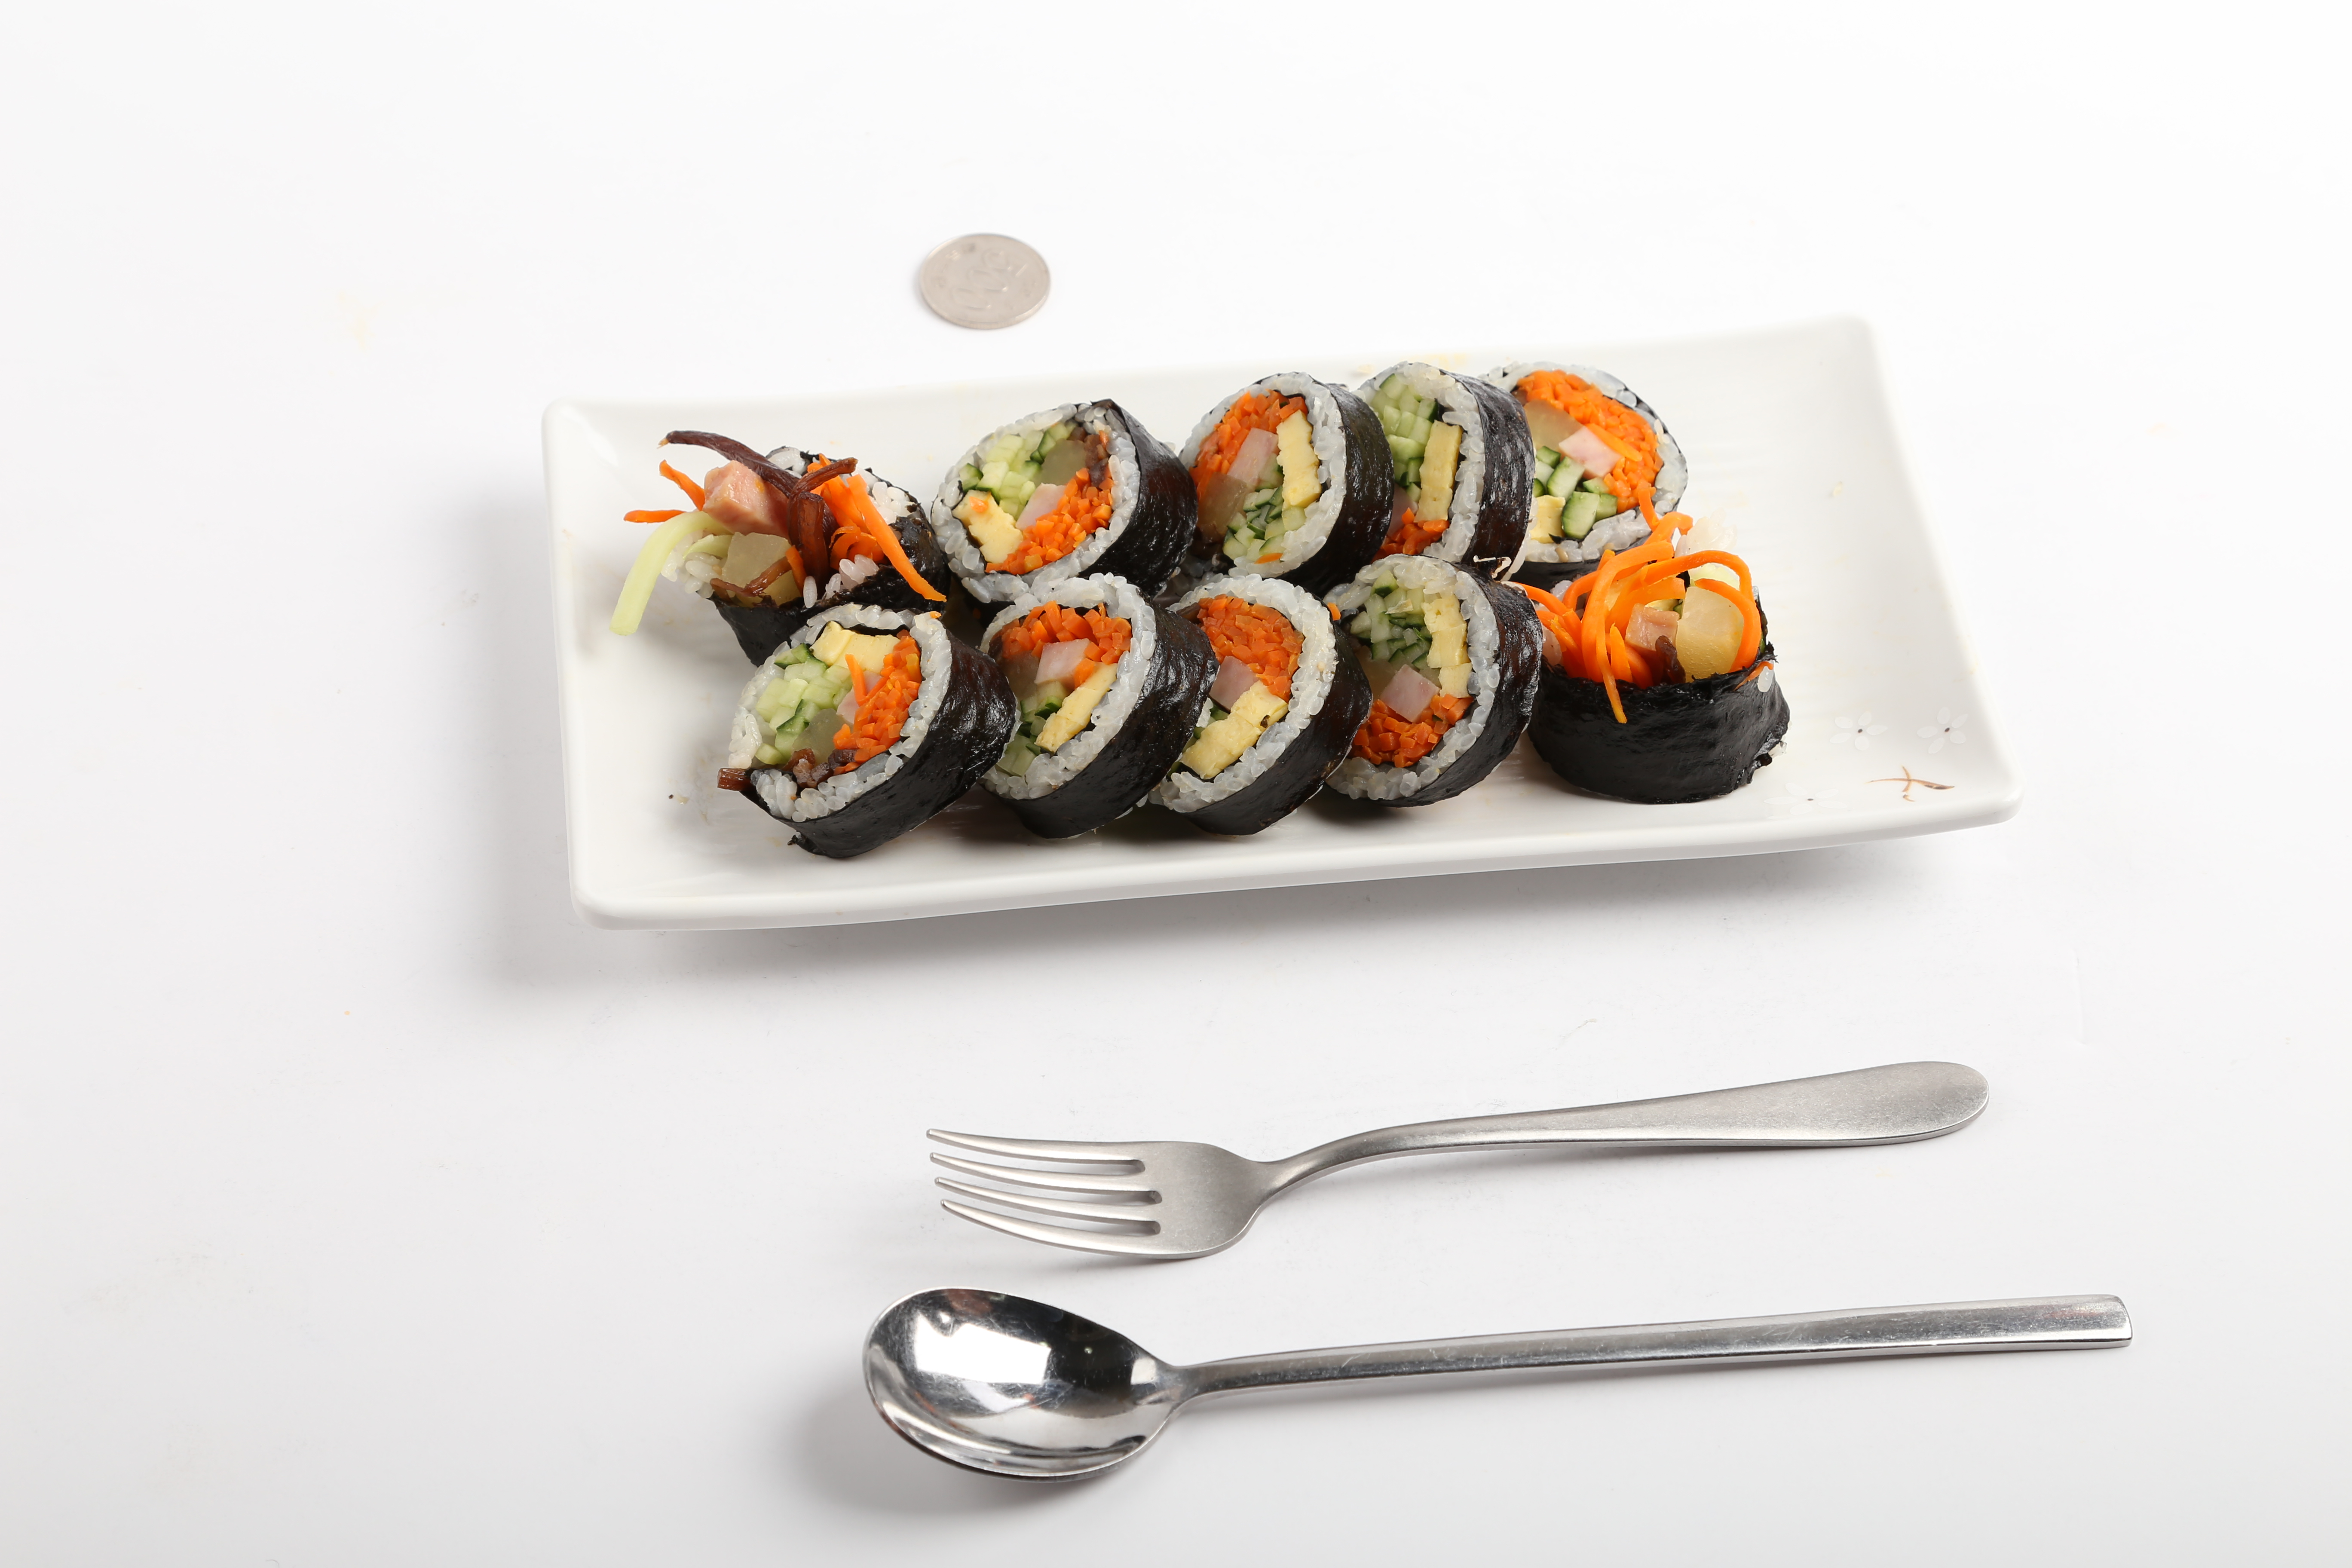dish: (542, 343, 2032, 919)
ref_coin: (910, 226, 1057, 338)
ref_fork: (919, 1122, 1361, 1265)
ref_spoon: (852, 1279, 1255, 1487)
김밥: (672, 362, 1795, 861)
